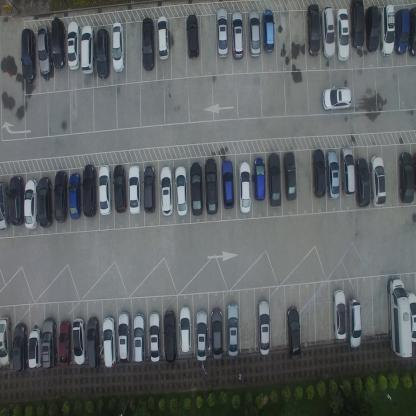car: (387, 276, 412, 358), (20, 27, 37, 83), (398, 150, 415, 204), (379, 2, 395, 58), (50, 14, 66, 70), (267, 152, 282, 209), (370, 153, 386, 206), (41, 316, 57, 369), (306, 2, 321, 58), (8, 174, 24, 226), (349, 0, 365, 52), (340, 145, 356, 197), (346, 296, 362, 348), (256, 297, 270, 356), (102, 316, 118, 367), (204, 157, 218, 215), (82, 163, 97, 217), (286, 306, 301, 360), (321, 85, 352, 111), (112, 164, 128, 214), (12, 322, 28, 372), (53, 169, 68, 222), (189, 161, 203, 217), (141, 16, 155, 72), (174, 164, 189, 216), (80, 23, 95, 75), (38, 176, 53, 227), (355, 157, 370, 208), (118, 310, 132, 364), (98, 163, 112, 216), (111, 21, 125, 74), (163, 310, 177, 363), (311, 149, 326, 198), (365, 5, 380, 54), (24, 178, 38, 230), (321, 6, 335, 58), (335, 8, 349, 60), (37, 23, 51, 75), (72, 317, 87, 365), (159, 165, 173, 216), (230, 10, 244, 61), (96, 29, 110, 80), (87, 316, 100, 370), (283, 151, 297, 201), (326, 149, 340, 199), (395, 7, 409, 57), (185, 14, 200, 60), (238, 160, 251, 213), (210, 307, 223, 360), (58, 318, 72, 367), (216, 7, 229, 59), (333, 288, 346, 340), (178, 305, 192, 353), (222, 159, 235, 210), (67, 20, 80, 71), (226, 302, 238, 357), (128, 164, 141, 214), (27, 327, 42, 370), (68, 172, 81, 220), (195, 309, 207, 361), (156, 15, 170, 59), (0, 316, 12, 367), (133, 313, 145, 363), (143, 165, 155, 214), (253, 156, 266, 201), (248, 10, 260, 58), (149, 312, 160, 364), (262, 8, 274, 54), (406, 290, 415, 344), (0, 180, 9, 230), (408, 7, 416, 58)
